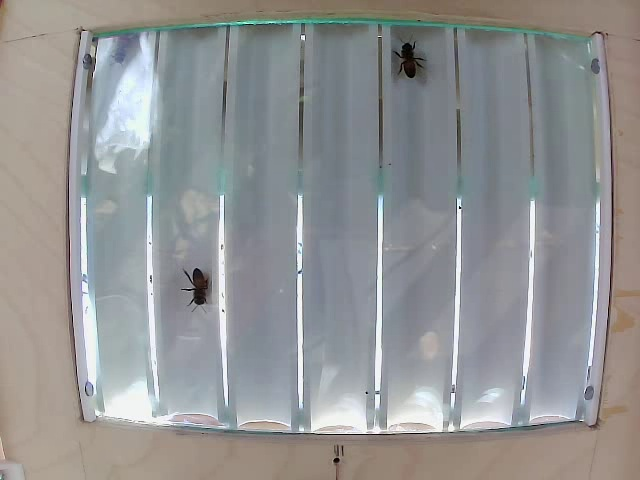bee: (394, 35, 427, 83), (184, 263, 211, 315), (106, 33, 140, 68)
